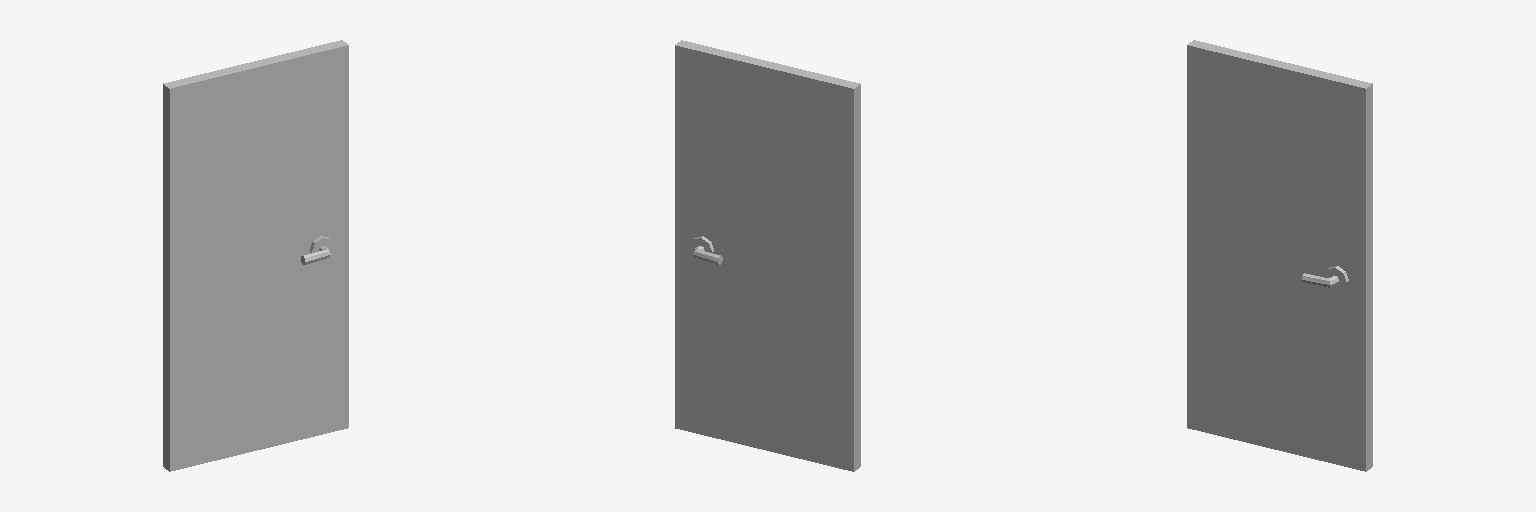
The model's file is door.obj.
The picture shows the model from 3 angles: view 1: azimuth 30°, elevation 25°; view 2: azimuth 150°, elevation 25°; view 3: azimuth 330°, elevation 25°; orthographic projection.
Parts seen in each view (by area): view 1: House_Pack.obj00f856ee-0940-472c-bbf3-ebf873640a90.335; view 2: House_Pack.obj00f856ee-0940-472c-bbf3-ebf873640a90.335; view 3: House_Pack.obj00f856ee-0940-472c-bbf3-ebf873640a90.335.
Boxes of the visible parts, box(x1,y1,x2,y2) form: House_Pack.obj00f856ee-0940-472c-bbf3-ebf873640a90.335: box(163, 40, 348, 471); House_Pack.obj00f856ee-0940-472c-bbf3-ebf873640a90.335: box(675, 40, 860, 471); House_Pack.obj00f856ee-0940-472c-bbf3-ebf873640a90.335: box(1187, 40, 1372, 471).
Bounding box in the file's own units: 14.1 × 28.76 × 3.76.